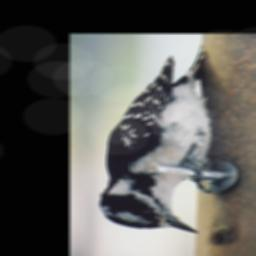Woodpecker: (99, 45, 220, 233)
